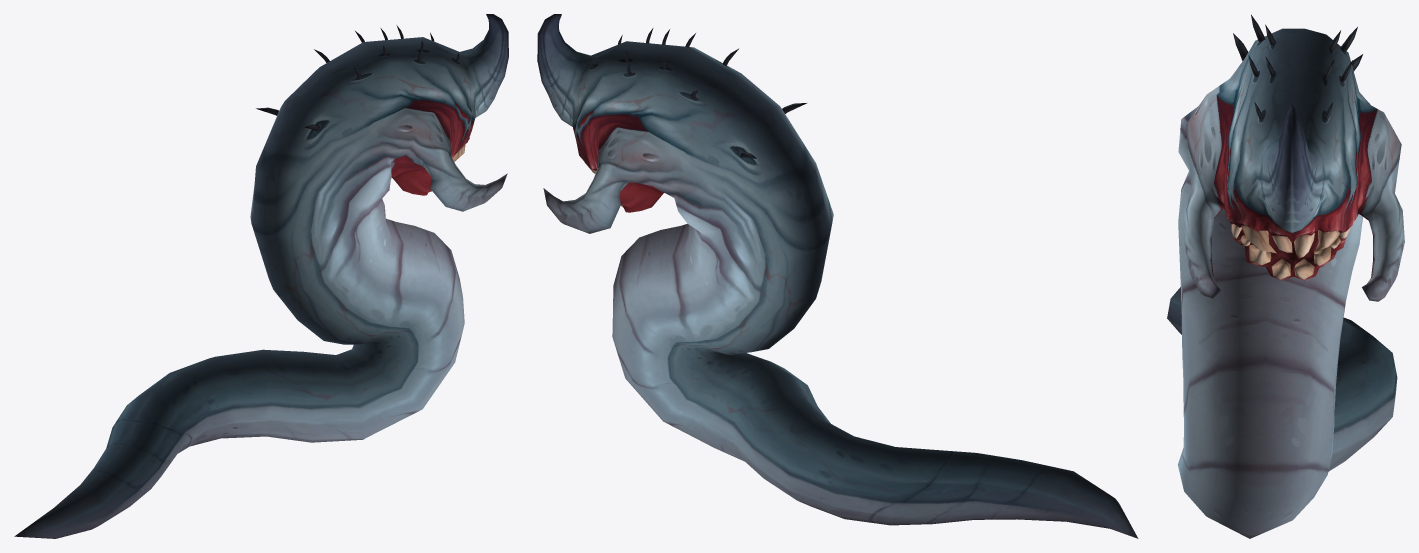
The model's file is blood_trollc.obj.
3 views of the same model, side by side, from view 1: azimuth 30°, elevation 25°; view 2: azimuth 150°, elevation 25°; view 3: azimuth 270°, elevation 25° (orthographic). The views are drawn at different scales.
Visible parts, largest first — view 1: creature/bloodgodworm/bloodgodworm.m2_Geoset_000; view 2: creature/bloodgodworm/bloodgodworm.m2_Geoset_000; view 3: creature/bloodgodworm/bloodgodworm.m2_Geoset_000.
Boxes of the visible parts, x1=… form: creature/bloodgodworm/bloodgodworm.m2_Geoset_000: x1=14, y1=14, x2=508, y2=538; creature/bloodgodworm/bloodgodworm.m2_Geoset_000: x1=537, y1=14, x2=1138, y2=538; creature/bloodgodworm/bloodgodworm.m2_Geoset_000: x1=1167, y1=14, x2=1404, y2=538.
Bounding box in the file's own units: 5.71 × 4.06 × 1.65.
1 material, 1 textured.
